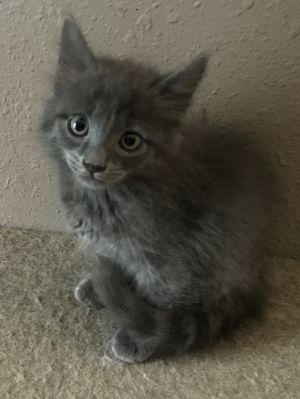rblue: (42, 17, 211, 201)
